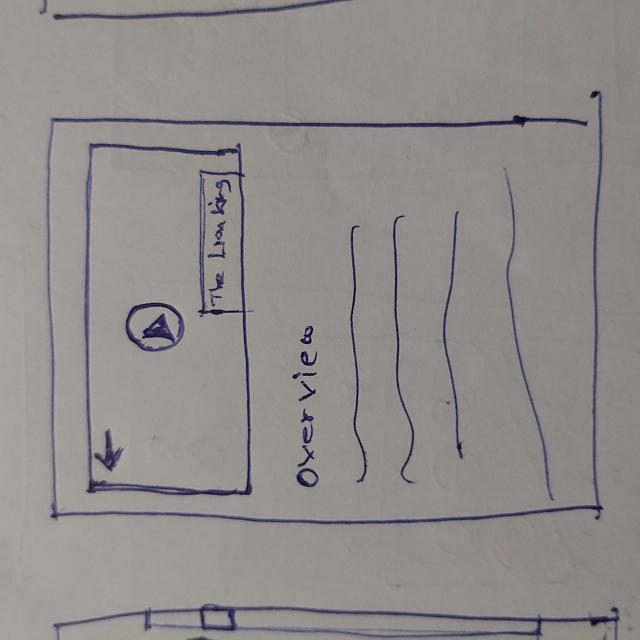BackButton: (93, 427, 124, 477)
IconButton: (125, 301, 188, 354)
MainLayout: (42, 113, 603, 523)
MultiLineText: (348, 163, 551, 494)
TextView: (291, 323, 324, 489), (205, 183, 237, 307)
Video: (82, 140, 251, 492)
